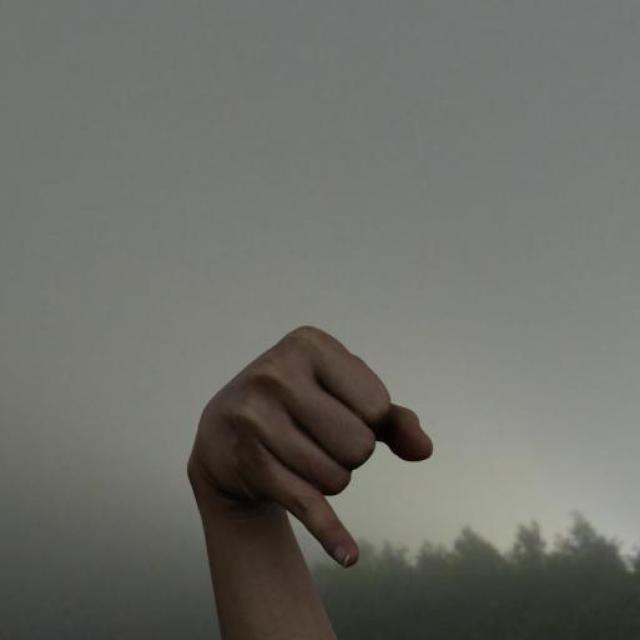J: (175, 317, 438, 578)
